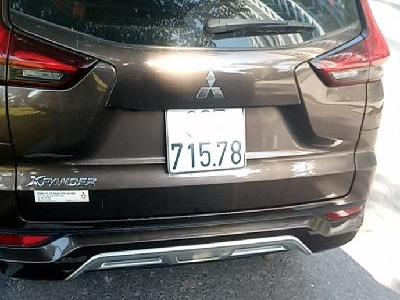lisence: (163, 107, 248, 174)
